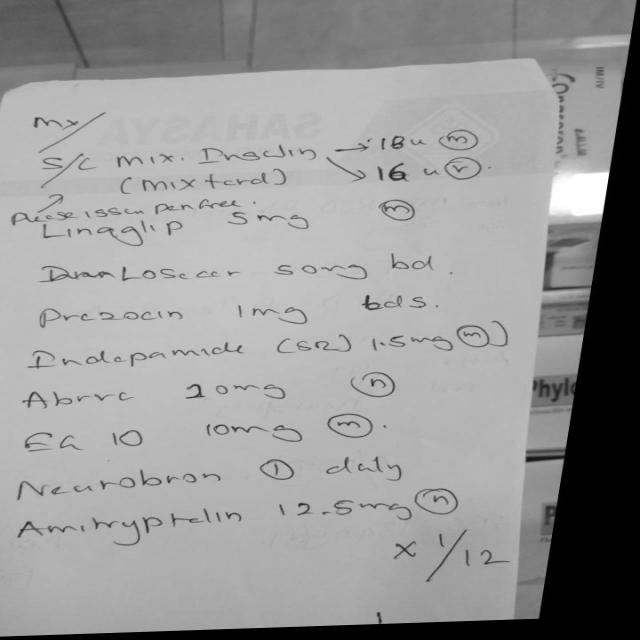Prescription: (26, 478, 532, 586), (36, 318, 528, 379), (29, 454, 428, 506), (48, 247, 447, 293), (36, 368, 420, 414), (44, 292, 443, 331), (26, 415, 391, 454)
